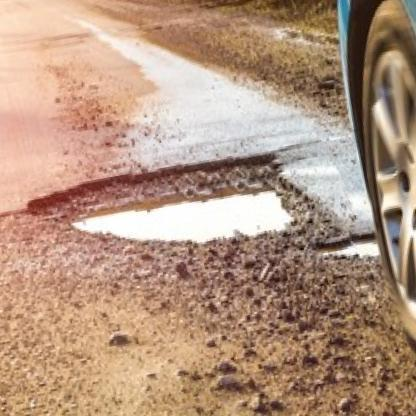pothole: (25, 137, 326, 286)
